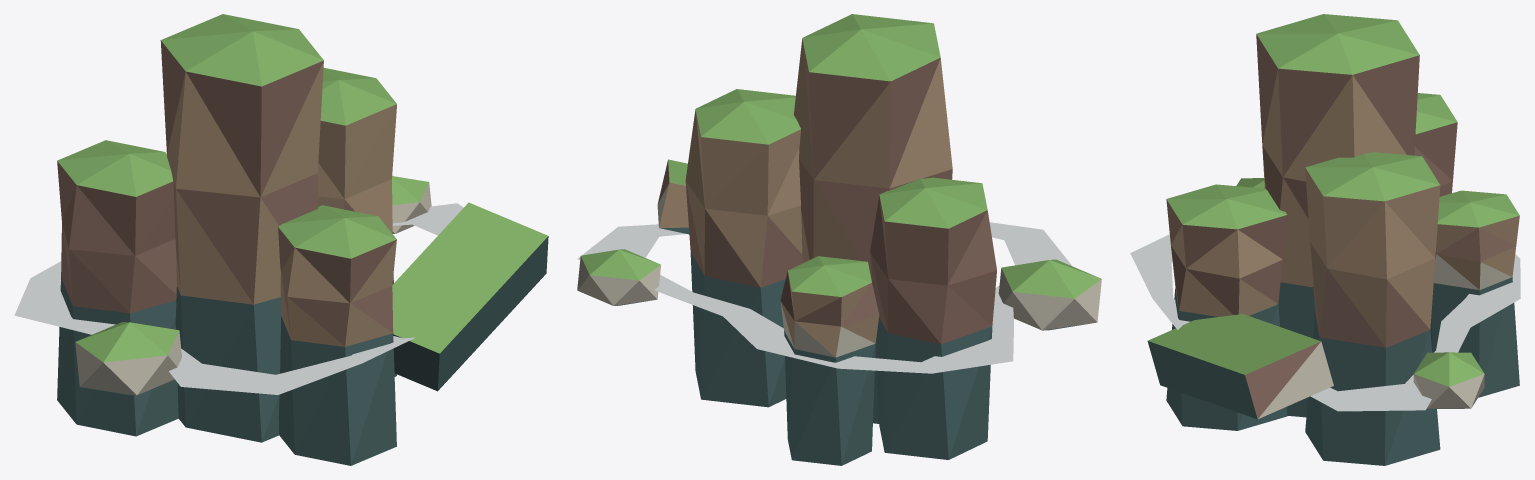
Rendered from sea_reef_cluster.glb.
3 views of the same model, side by side, from view 1: azimuth 30°, elevation 25°; view 2: azimuth 150°, elevation 25°; view 3: azimuth 270°, elevation 25° (orthographic). The views are drawn at different scales.
Visible parts, largest first — view 1: sea_reef_cluster; view 2: sea_reef_cluster; view 3: sea_reef_cluster.
Boxes of the visible parts, box(x1,y1,x2,y2) form: sea_reef_cluster: box(14, 14, 548, 465); sea_reef_cluster: box(577, 14, 1101, 465); sea_reef_cluster: box(1130, 14, 1520, 465).
Bounding box in the file's own units: 7.45 × 5.75 × 5.62.
